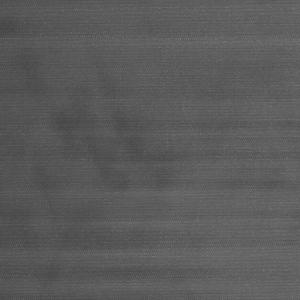Wrinkle: (1, 69, 300, 300)
